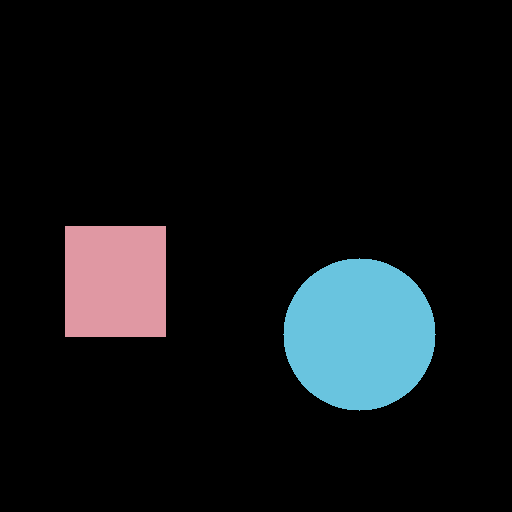circle: (283, 258, 435, 410)
square: (65, 226, 165, 336)
